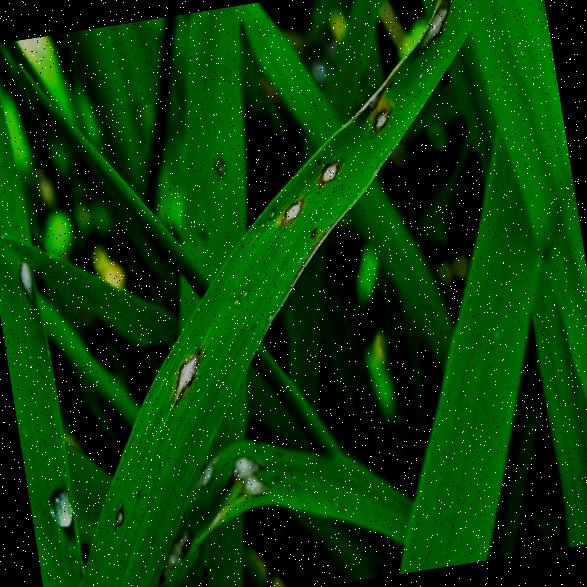Leaf_smut: (400, 0, 459, 53), (161, 338, 210, 398), (272, 178, 306, 229), (360, 86, 396, 132), (10, 247, 40, 301), (312, 148, 351, 186)
